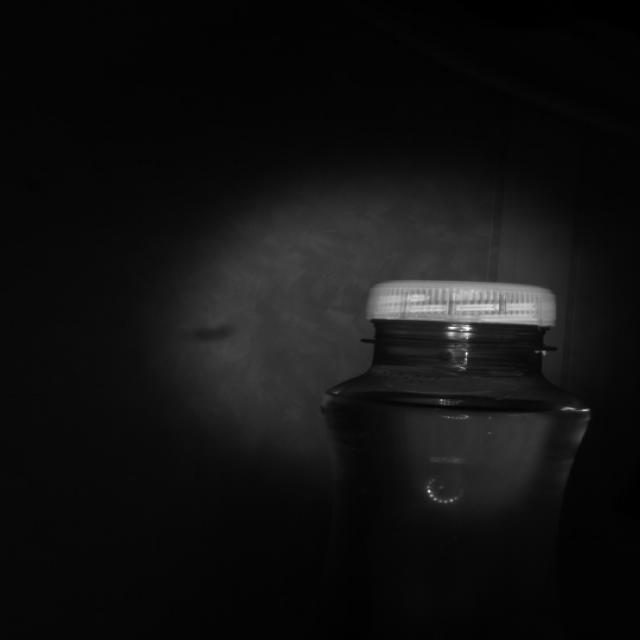Not Good: (359, 278, 560, 356)
